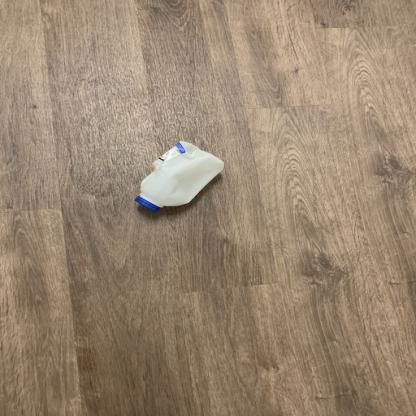trash: (136, 143, 226, 218)
